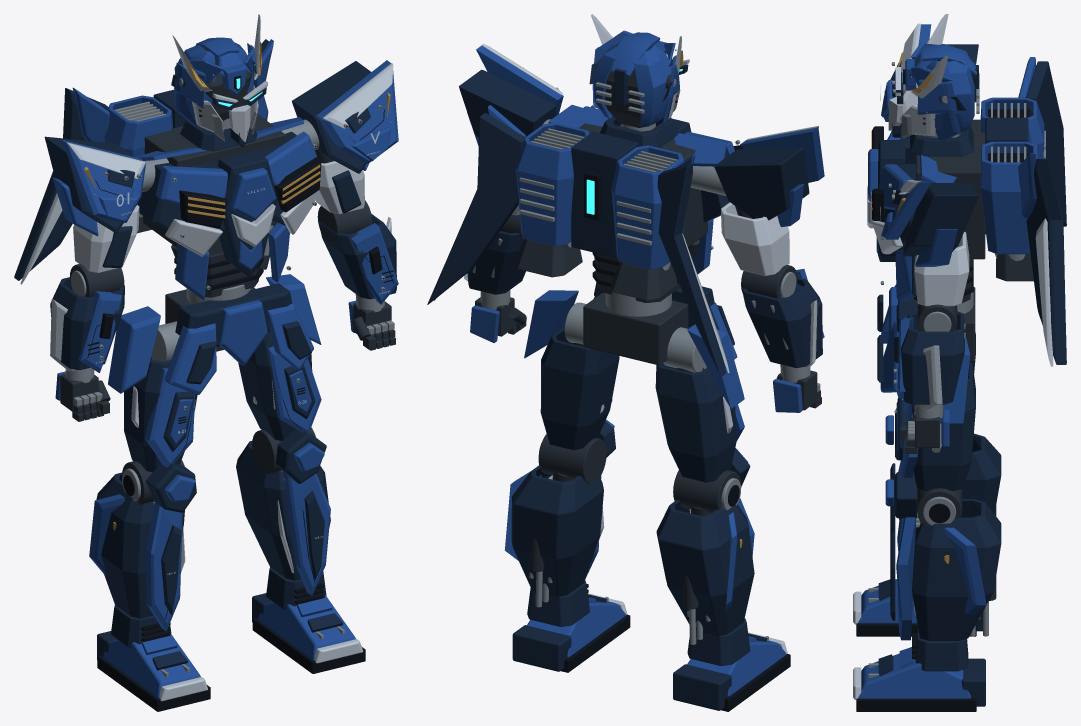
File: VALKYR_PARALLEL_R01.glb
3 views of the same model, side by side, from view 1: azimuth 30°, elevation 25°; view 2: azimuth 150°, elevation 25°; view 3: azimuth 270°, elevation 25° (orthographic). The views are drawn at different scales.
Visible parts, largest first — view 1: Calf white closed shell.R, Calf white closed shell.L, Side skirt scabbard fin.R, Shoulder inner return shell.L, Shin long blue keel.L, Closed thoracic carrier, Shin long blue keel.R, Thigh structural ceramic shell.L, Primary swept backpack vane.R, Main delta pauldron.L, Thigh structural ceramic shell.R, Forearm tapered housing.R (+66 smaller); view 2: Calf white closed shell.R, Calf white closed shell.L, Thigh structural ceramic shell.L, Thigh structural ceramic shell.R, Primary swept backpack vane.L, Thruster pod outer shell.L, Shoulder inner return shell.R, Thruster pod outer shell.R, Pelvis enclosed gearbox, Backpack central spine, Forearm tapered housing.R, Primary swept backpack vane.R (+37 smaller); view 3: Calf white closed shell.L, Thruster pod outer shell.L, Primary swept backpack vane.L, Forearm tapered housing.L, Thigh structural ceramic shell.L, Shoulder inner return shell.L, Foot sloped blue armour.L, Primary swept backpack vane.R, Closed thoracic carrier, Upper arm ceramic shell.L, Calf white closed shell.R, Shin long blue keel.L (+45 smaller).
Boxes of the visible parts, x1,y1,x2,y2 form: Calf white closed shell.R: (96,472,184,618); Calf white closed shell.L: (236,441,330,580); Side skirt scabbard fin.R: (108,306,160,393); Shoulder inner return shell.L: (292,61,371,173); Shin long blue keel.L: (282,471,330,595); Closed thoracic carrier: (143,114,285,247); Shin long blue keel.R: (146,502,182,631); Thigh structural ceramic shell.L: (238,336,312,440); Primary swept backpack vane.R: (14,88,109,280); Main delta pauldron.L: (316,60,398,163); Thigh structural ceramic shell.R: (124,357,197,472); Forearm tapered housing.R: (50,277,124,370); Calf white closed shell.R: (656,500,754,636); Calf white closed shell.L: (511,465,603,597); Thigh structural ceramic shell.L: (540,327,619,450); Thigh structural ceramic shell.R: (655,363,736,482); Primary swept backpack vane.L: (427,112,525,304); Thruster pod outer shell.L: (515,122,589,246); Shoulder inner return shell.R: (714,148,809,220); Thruster pod outer shell.R: (611,145,686,269); Pelvis enclosed gearbox: (583,292,691,365); Backpack central spine: (571,131,638,257); Forearm tapered housing.R: (742,277,822,368); Primary swept backpack vane.R: (657,163,726,376); Calf white closed shell.L: (912,499,1001,640); Thruster pod outer shell.L: (980,141,1040,254); Primary swept backpack vane.L: (1026,158,1066,364); Forearm tapered housing.L: (901,310,964,404); Thigh structural ceramic shell.L: (912,362,975,490); Shoulder inner return shell.L: (903,183,978,256); Foot sloped blue armour.L: (858,653,970,698); Primary swept backpack vane.R: (1026,61,1066,226); Closed thoracic carrier: (916,119,985,259); Upper arm ceramic shell.L: (914,231,969,306); Calf white closed shell.R: (917,433,1001,513); Shin long blue keel.L: (896,517,916,640).
Size of the model in its own units: 3.52 by 6.27 by 1.94.
